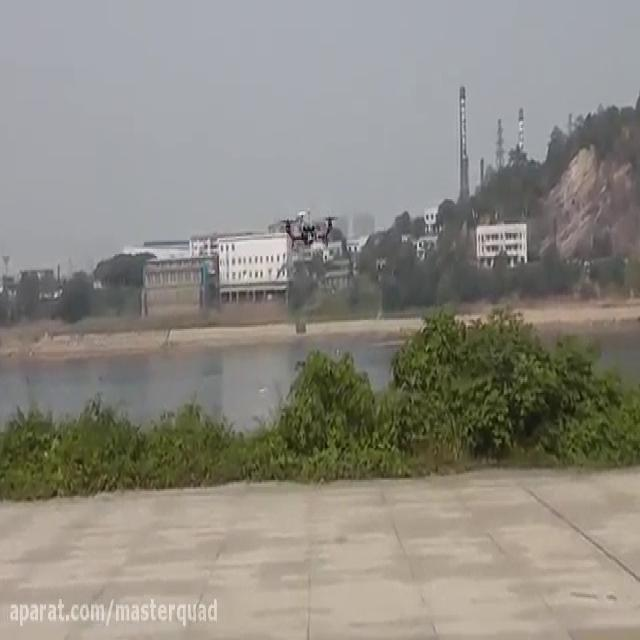drone: (278, 204, 341, 254)
